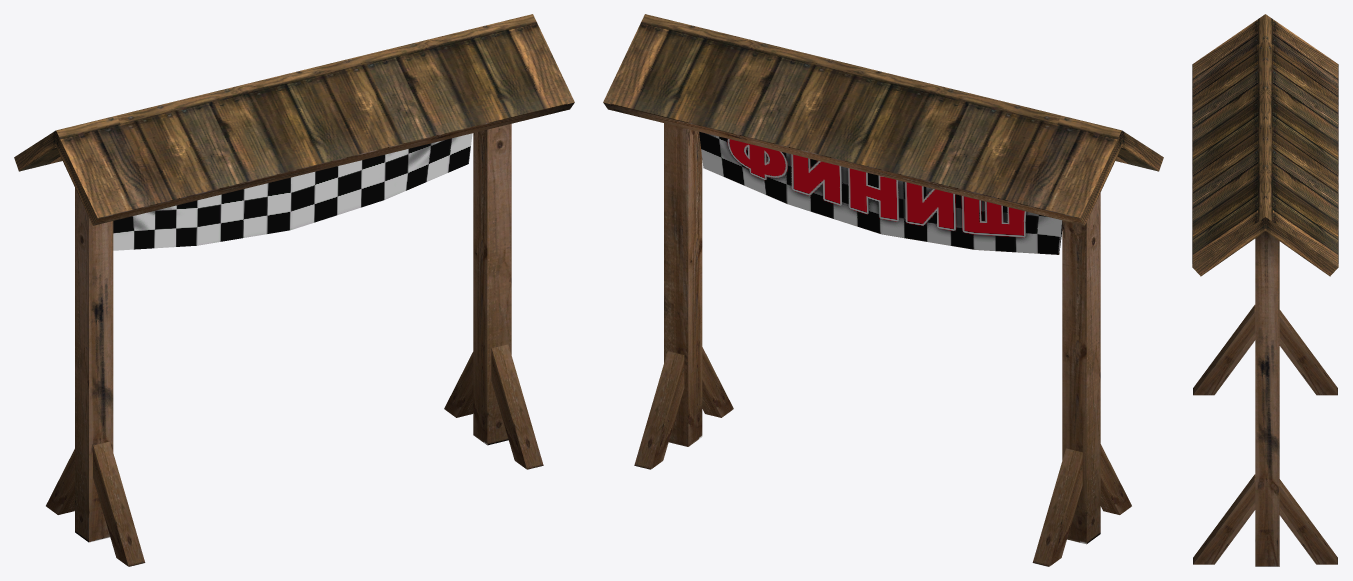
File: finish.glb
3 renders of one model, left to right at view 1: azimuth 30°, elevation 25°; view 2: azimuth 150°, elevation 25°; view 3: azimuth 270°, elevation 25°, orthographic. The views are drawn at different scales.
Visible parts, largest first — view 1: finish-col; view 2: finish-col; view 3: finish-col.
Part boxes in pixels (x1,y1,x2,y2): finish-col: (14,14,574,566); finish-col: (603,14,1163,566); finish-col: (1192,14,1338,566).
Size of the model in its own units: 7.83 by 6.5 by 2.39.
Materials: 1 (1 with a texture image).
